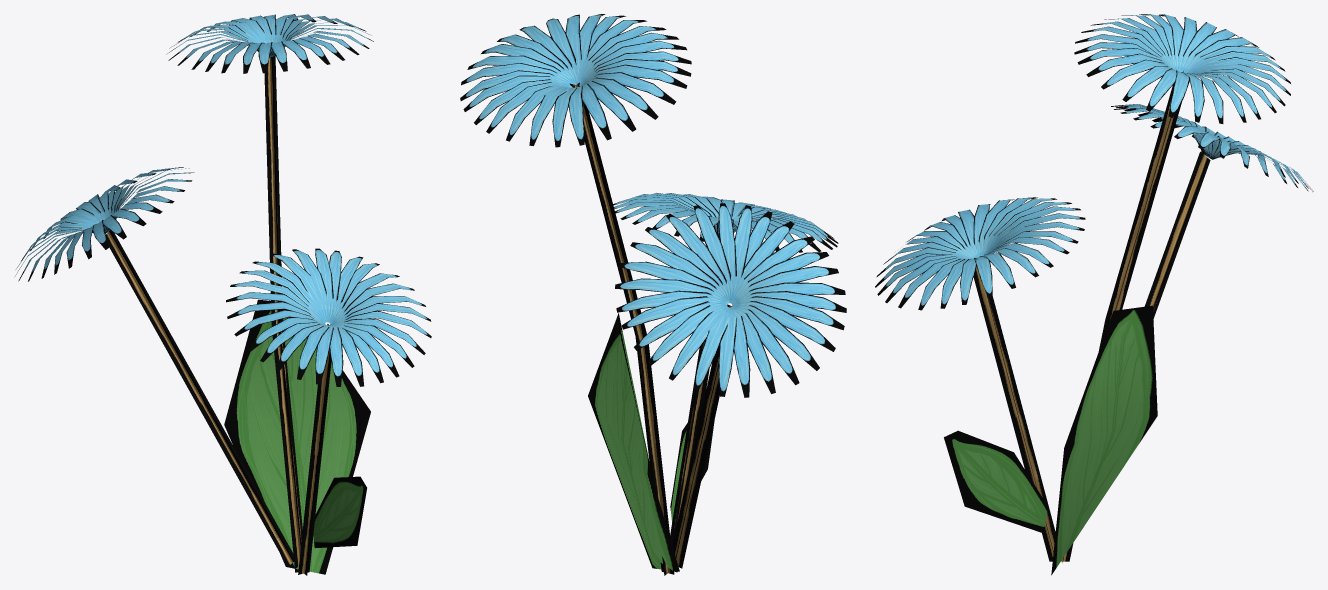
File: Daisy_01.fbx
3 renders of one model, left to right at view 1: azimuth 30°, elevation 25°; view 2: azimuth 150°, elevation 25°; view 3: azimuth 270°, elevation 25°, orthographic. The views are drawn at different scales.
Parts seen in each view (by area): view 1: Daisy_01; view 2: Daisy_01; view 3: Daisy_01.
Part boxes in pixels (x1=…): Daisy_01: x1=15, y1=14, x2=431, y2=575; Daisy_01: x1=460, y1=14, x2=846, y2=575; Daisy_01: x1=875, y1=14, x2=1313, y2=575.
Bounding box in the file's own units: 1.94 × 2.87 × 2.12.
